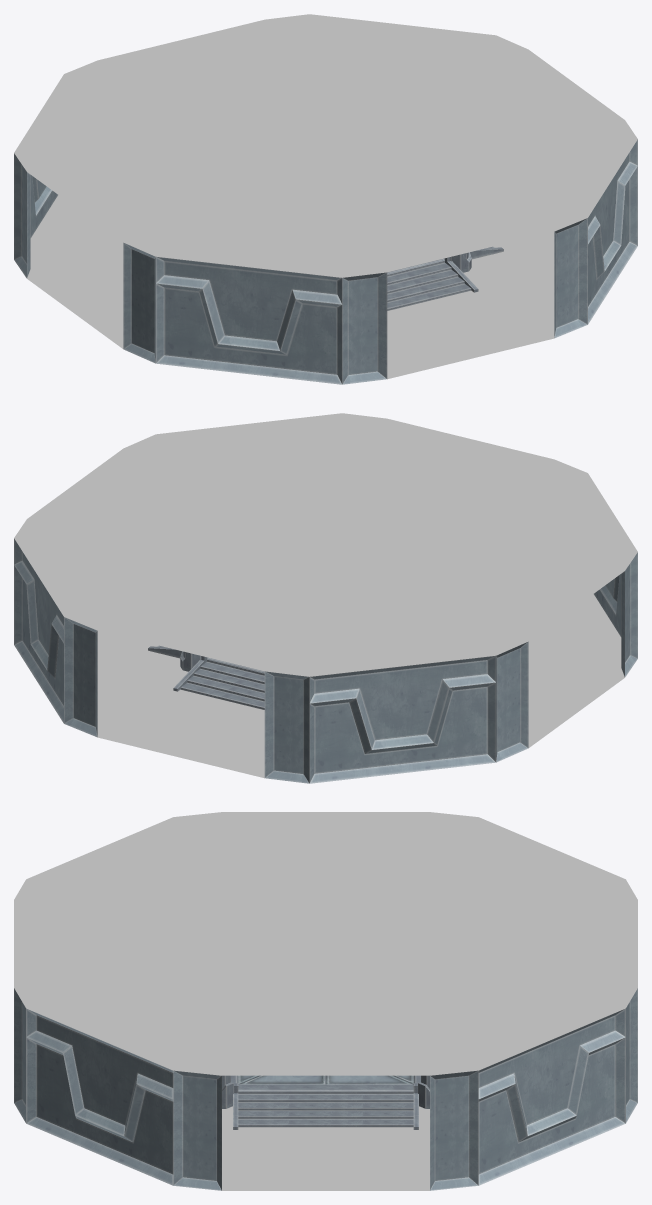
The model's file is Room.fbx.
3 renders of one model, top to bottom at view 1: azimuth 30°, elevation 25°; view 2: azimuth 150°, elevation 25°; view 3: azimuth 270°, elevation 25°, orthographic. The views are drawn at different scales.
Parts seen in each view (by area): view 1: room01, stairs01; view 2: room01, stairs03; view 3: room01, stairs02, floor01.
Boxes of the visible parts, box(x1,y1,x2,y2) form: room01: box(14, 14, 637, 384); stairs01: box(387, 257, 478, 310); room01: box(14, 413, 637, 783); stairs03: box(173, 656, 264, 709); room01: box(14, 812, 637, 1190); stairs02: box(233, 1083, 418, 1129); floor01: box(231, 1075, 420, 1091).
Size of the model in its own units: 6 by 1.22 by 6.
